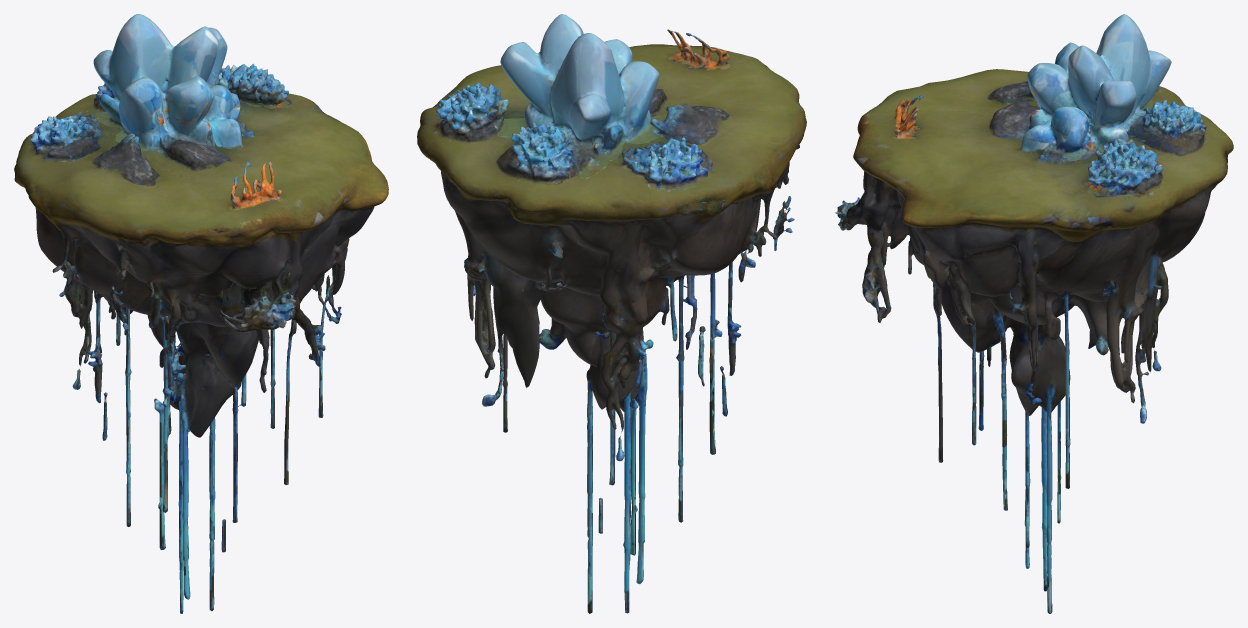
File: Ethereal_Crystal_Isla.glb
3 renders of one model, left to right at view 1: azimuth 30°, elevation 25°; view 2: azimuth 150°, elevation 25°; view 3: azimuth 270°, elevation 25°, orthographic. The views are drawn at different scales.
Visible parts, largest first — view 1: Ethereal_Crystal_Isla; view 2: Ethereal_Crystal_Isla; view 3: Ethereal_Crystal_Isla.
Boxes of the visible parts, bbox=[...] form: Ethereal_Crystal_Isla: bbox=[14, 14, 388, 613]; Ethereal_Crystal_Isla: bbox=[417, 14, 806, 613]; Ethereal_Crystal_Isla: bbox=[835, 14, 1233, 613].
Size of the model in its own units: 1.09 by 1.97 by 1.22.
1 material, 1 textured.
